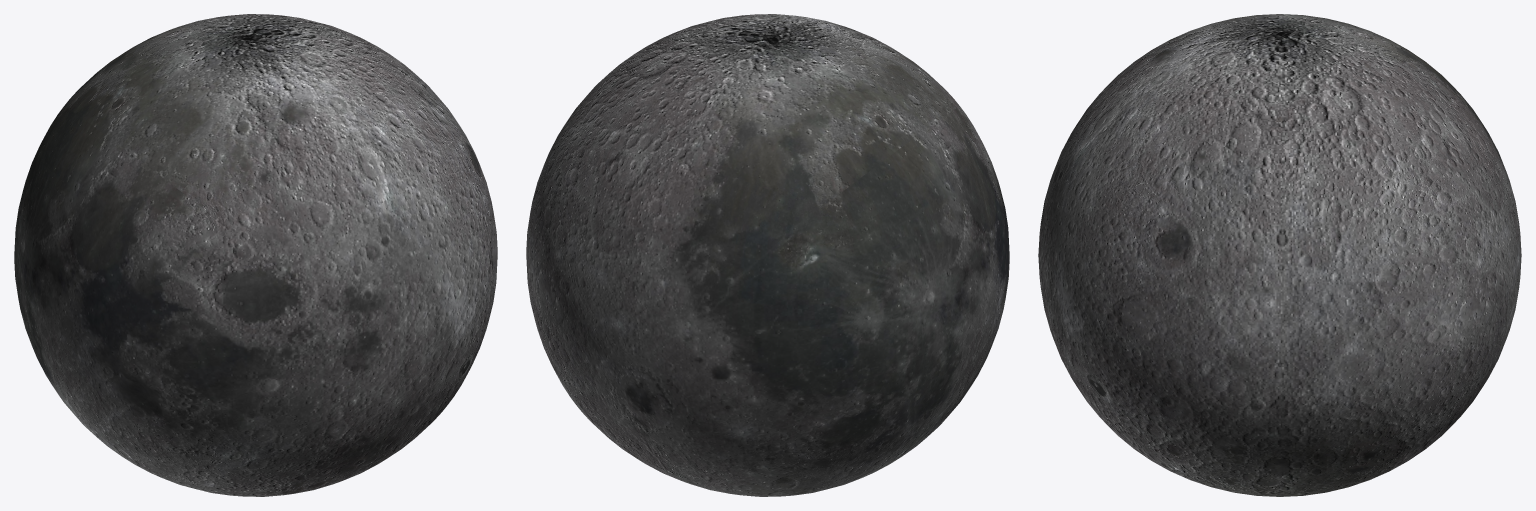
The model's file is moonluna.glb.
The picture shows the model from 3 angles, left to right: view 1: azimuth 30°, elevation 25°; view 2: azimuth 150°, elevation 25°; view 3: azimuth 270°, elevation 25°; orthographic projection.
Parts seen in each view (by area): view 1: Cube.008; view 2: Cube.008; view 3: Cube.008.
Part boxes in pixels (x1,y1,x2,y2): Cube.008: (14, 14, 497, 496); Cube.008: (526, 14, 1009, 496); Cube.008: (1038, 14, 1521, 496).
Size of the model in its own units: 1000 by 999 by 1000.
1 material, 1 textured.
